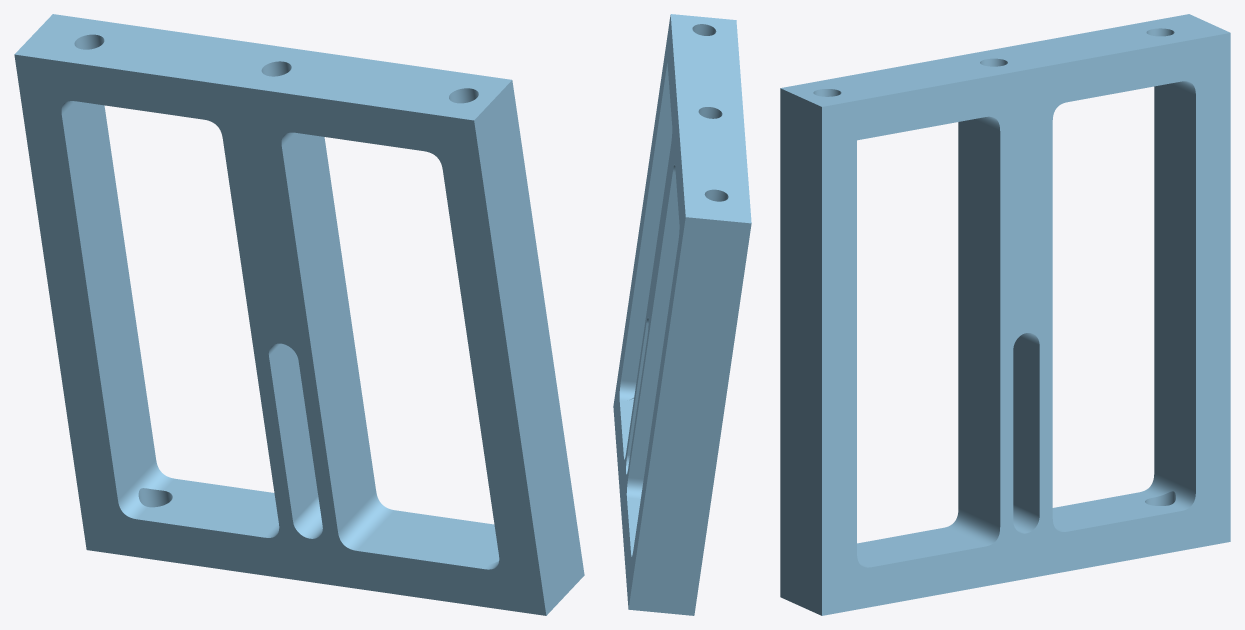
3 renders of one model, left to right at view 1: azimuth 30°, elevation 25°; view 2: azimuth 150°, elevation 25°; view 3: azimuth 270°, elevation 25°, orthographic. The views are drawn at different scales.
Parts seen in each view (by area): view 1: mesh4725, mesh4711, mesh4708, mesh4723, mesh4701, mesh4716, mesh4699, mesh4726, mesh4724, mesh4700, mesh4729; view 2: mesh4710, mesh4708, mesh4727, mesh4714, mesh4703, mesh4716, mesh4699, mesh4730, mesh4702, mesh4715, mesh4707, mesh4712 (+1 smaller); view 3: mesh4727, mesh4711, mesh4723, mesh4701, mesh4708, mesh4726, mesh4716, mesh4699, mesh4724, mesh4700.
Boxes of the visible parts, x1,y1,x2,y2 form: mesh4725: [14, 54, 546, 615]; mesh4711: [474, 80, 584, 615]; mesh4708: [14, 14, 511, 120]; mesh4723: [282, 132, 376, 531]; mesh4701: [62, 101, 155, 499]; mesh4716: [357, 510, 499, 568]; mesh4699: [137, 479, 278, 537]; mesh4726: [269, 343, 318, 521]; mesh4724: [338, 492, 394, 550]; mesh4700: [118, 460, 174, 519]; mesh4729: [293, 496, 322, 538]; mesh4710: [628, 217, 751, 615]; mesh4708: [670, 14, 751, 223]; mesh4727: [613, 15, 685, 609]; mesh4714: [621, 63, 672, 381]; mesh4703: [628, 172, 679, 478]; mesh4716: [619, 398, 633, 456]; mesh4699: [627, 498, 640, 554]; mesh4730: [627, 323, 648, 455]; mesh4702: [626, 477, 643, 499]; mesh4715: [619, 380, 636, 401]; mesh4707: [704, 189, 728, 201]; mesh4712: [692, 24, 716, 35]; mesh4727: [822, 33, 1230, 615]; mesh4711: [780, 88, 821, 615]; mesh4723: [958, 119, 1000, 526]; mesh4701: [1154, 84, 1195, 491]; mesh4708: [780, 14, 1230, 106]; mesh4726: [1013, 336, 1039, 515]; mesh4716: [857, 528, 984, 566]; mesh4699: [1052, 492, 1180, 531]; mesh4724: [944, 508, 999, 546]; mesh4700: [1140, 473, 1195, 510].
Size of the model in its own units: 0.0385 by 0.0552 by 0.0434.
